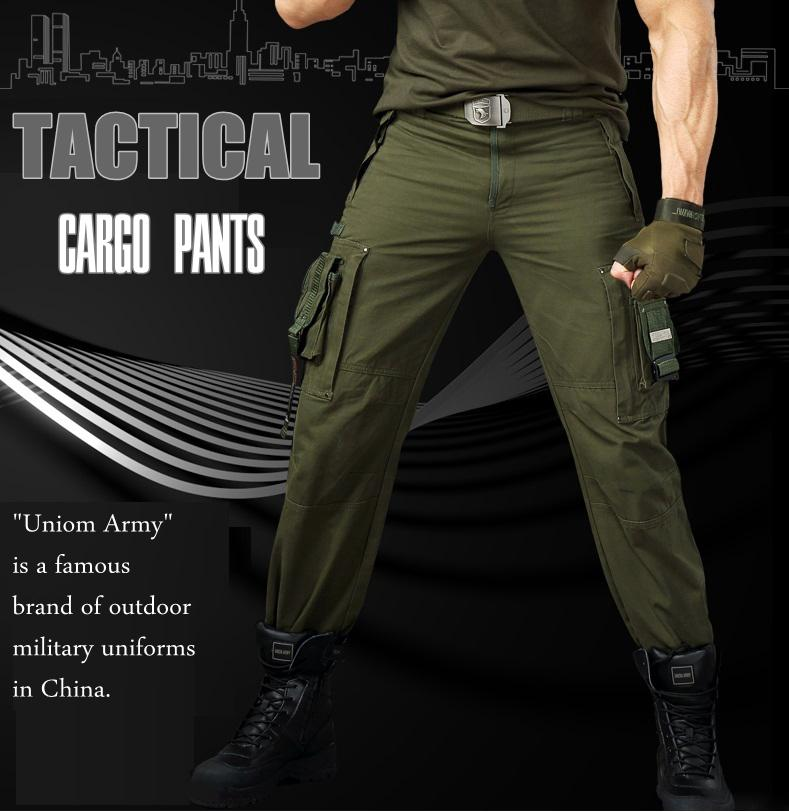pants: (265, 110, 718, 670)
